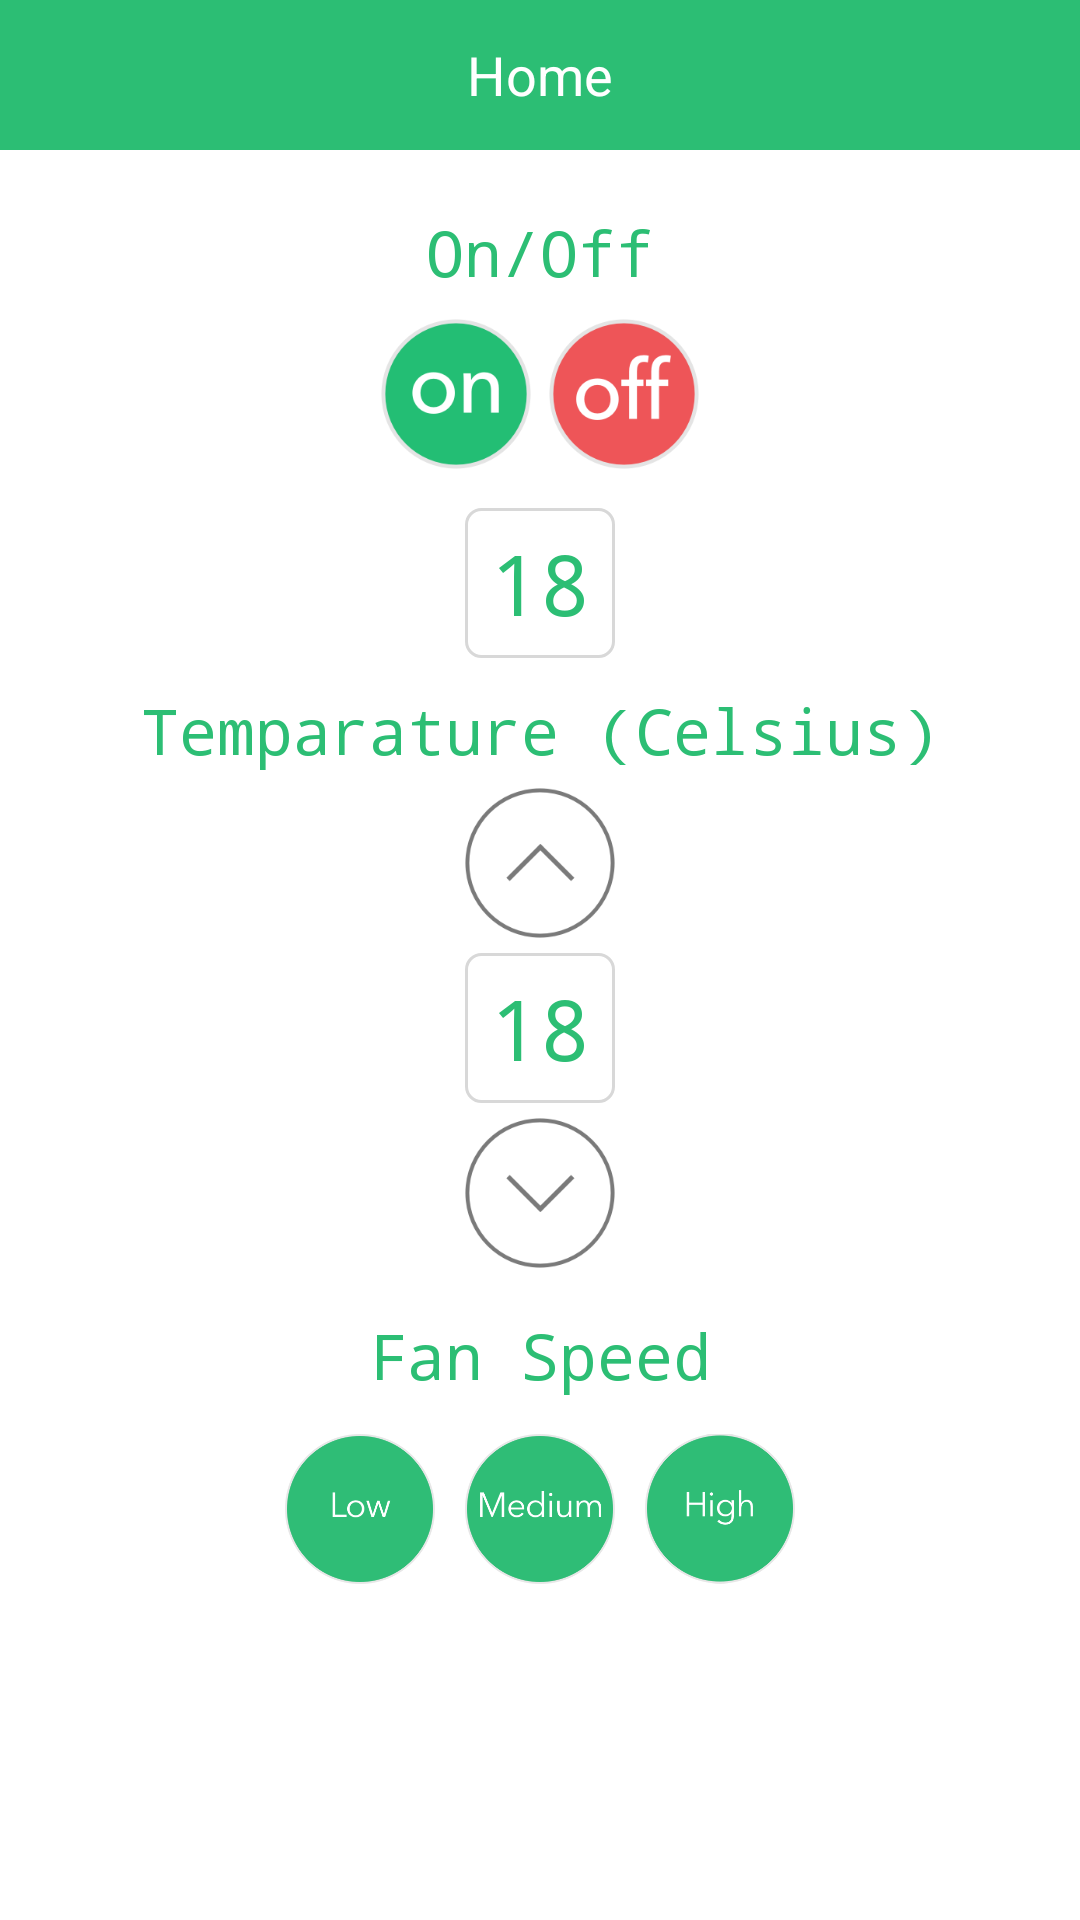

Point at icon controls on the screen. Image size 1080x1920, points as (x=x, y=y).
down: (x=540, y=1193)
